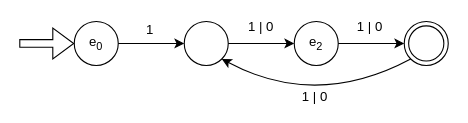
Image size: 468x123. Some labels were removed from this diagram. The shapes that lost their labels are listed below. From the top down, each one's centre as x and y in pixels, then its label:
At point (205, 42): "e 1".
At point (425, 42): "e 3".
